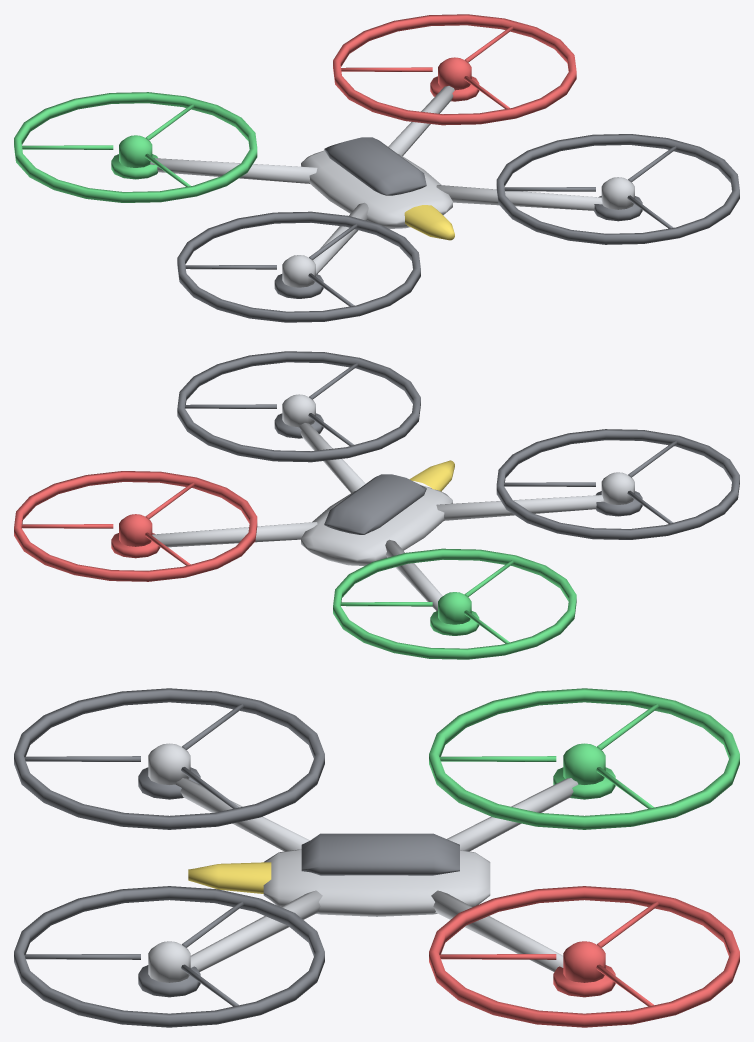
Rendered from uav-quad.glb.
3 views of the same model, one above another, from view 1: azimuth 30°, elevation 25°; view 2: azimuth 150°, elevation 25°; view 3: azimuth 270°, elevation 25° (orthographic). The views are drawn at different scales.
Parts seen in each view (by area): view 1: part1, part2, part0, part3, part4; view 2: part1, part2, part0, part3, part4; view 3: part1, part2, part3, part0, part4.
Part boxes in pixels (x1,y1,x2,y2): part1: [177, 134, 739, 322]; part2: [150, 86, 634, 287]; part0: [14, 92, 257, 202]; part3: [333, 14, 576, 125]; part4: [404, 205, 454, 240]; part1: [177, 351, 739, 539]; part2: [152, 394, 634, 610]; part0: [333, 548, 576, 659]; part3: [14, 471, 257, 581]; part4: [409, 460, 454, 491]; part1: [14, 688, 459, 1027]; part2: [148, 743, 578, 982]; part3: [429, 886, 739, 1027]; part0: [429, 688, 739, 829]; part4: [188, 862, 271, 893].
Bounding box in the file's own units: 2.68 × 0.2291 × 2.5.
